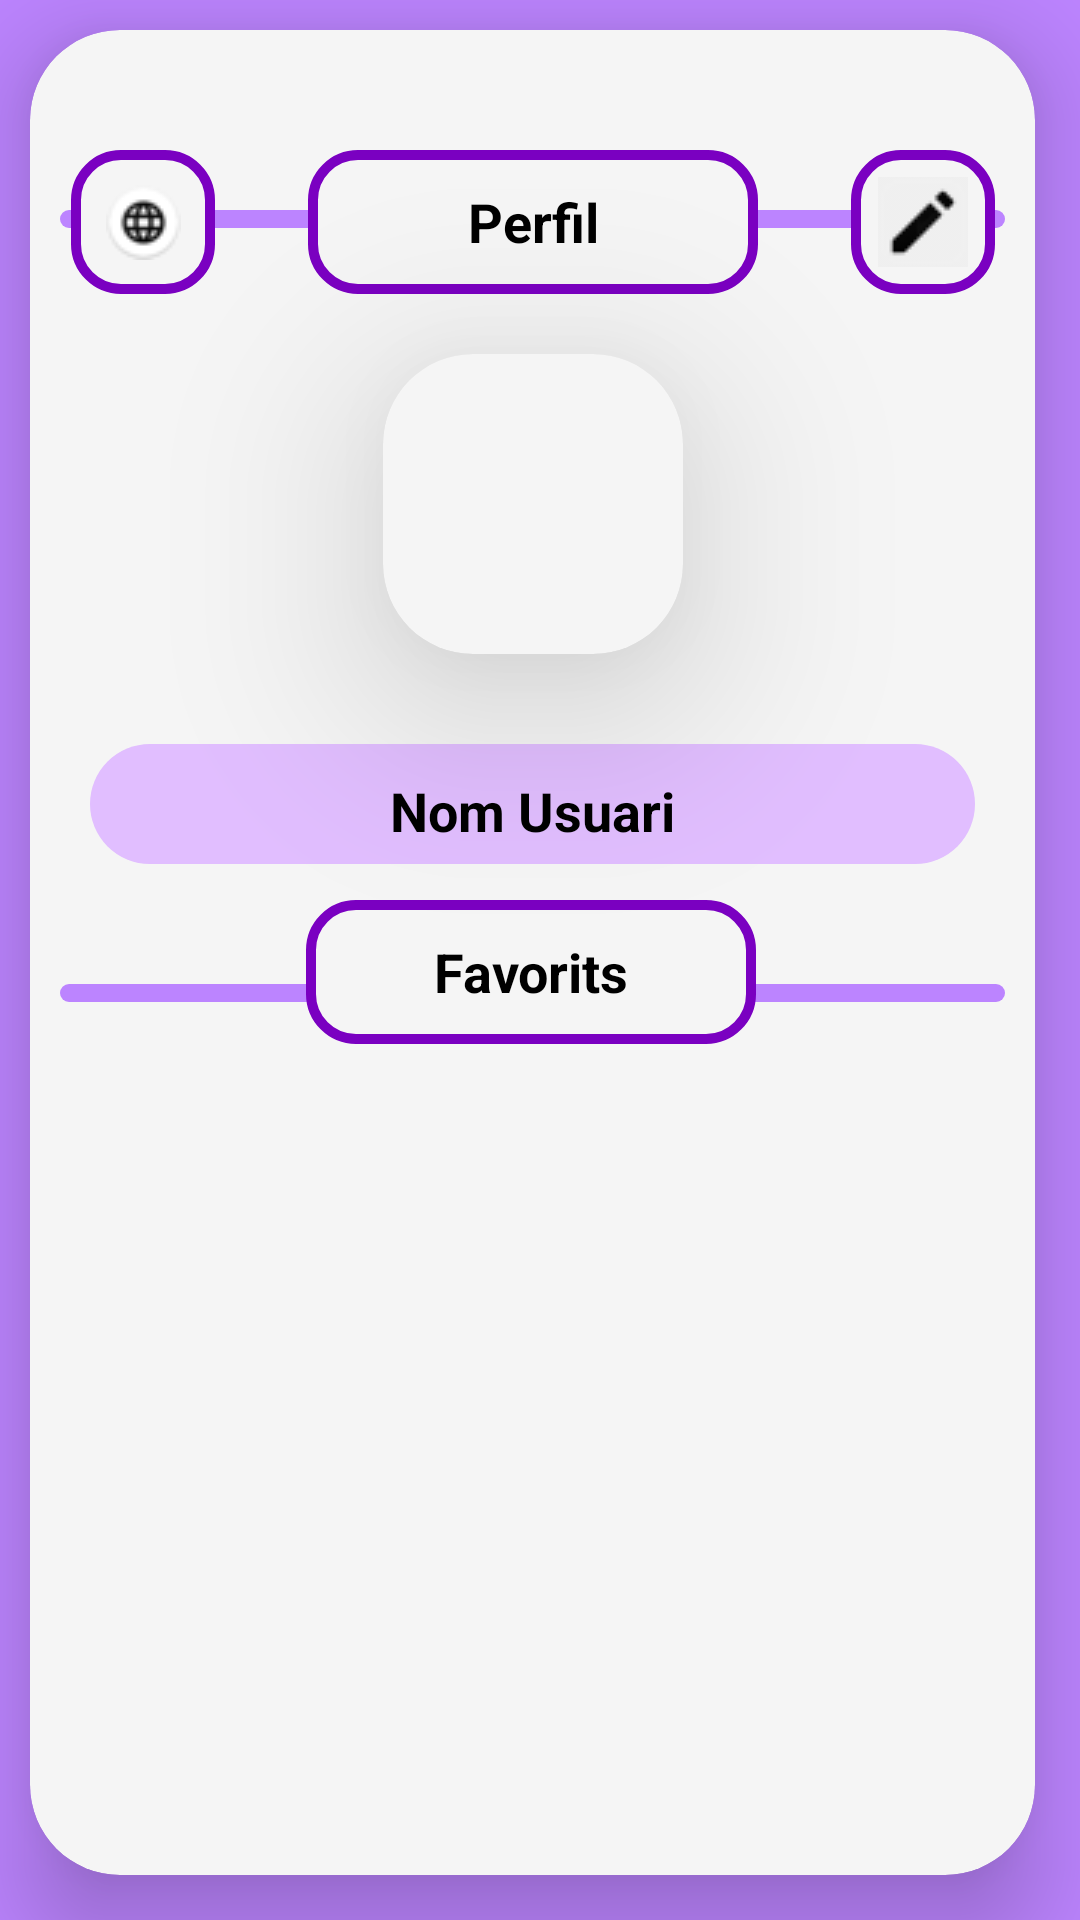

Icon bounding boxes for this 1080*1920 phone screenshot, format Rect(x1, y1, x2, y2):
Edit: Rect(851, 150, 995, 294)
Language: Rect(71, 150, 215, 294)
